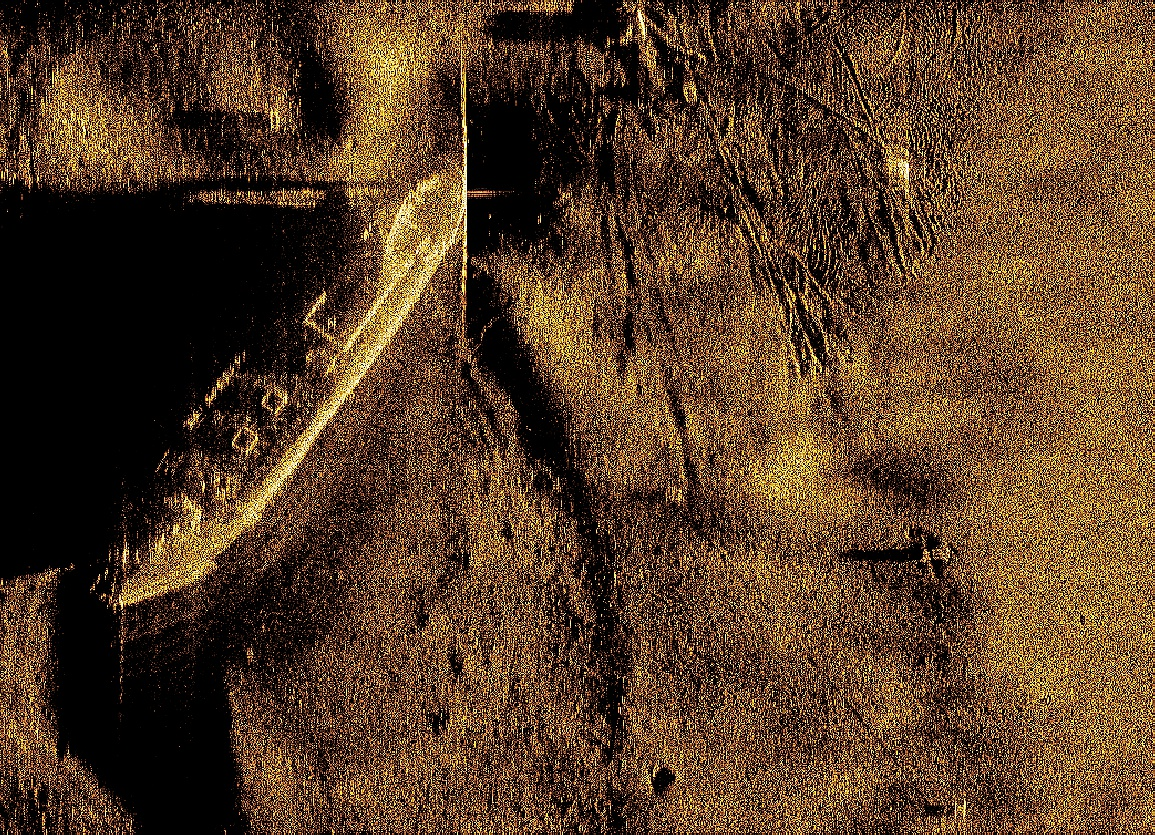ship: (86, 161, 467, 615)
